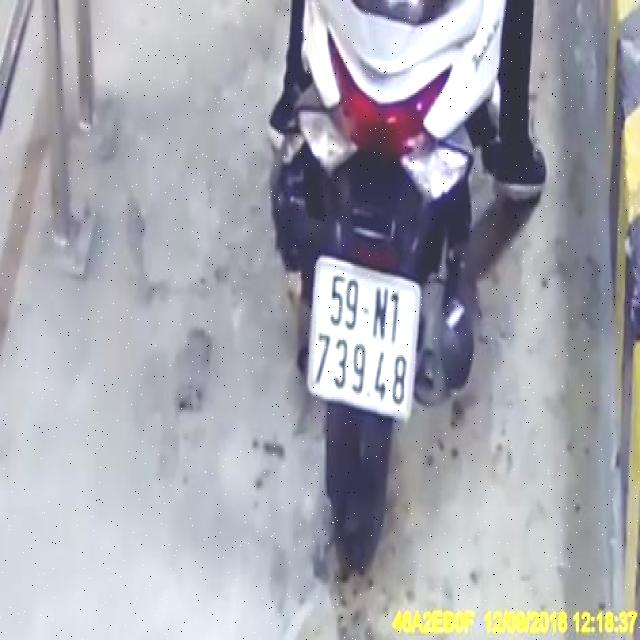1: (389, 292, 404, 351)
3: (332, 332, 350, 391)
4: (371, 344, 387, 402)
5: (329, 272, 345, 328)
7: (313, 328, 332, 386)
8: (392, 353, 406, 409)
9: (350, 333, 369, 399), (344, 278, 360, 332)
N: (374, 282, 389, 342)
